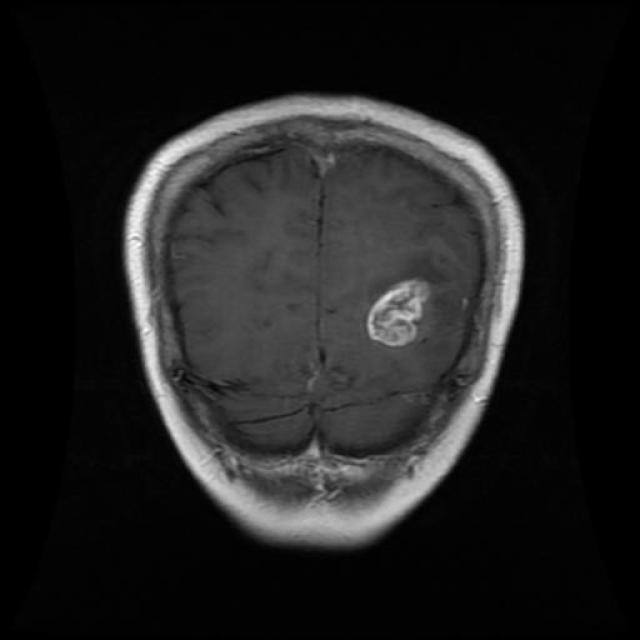glioma: (348, 248, 446, 368)
